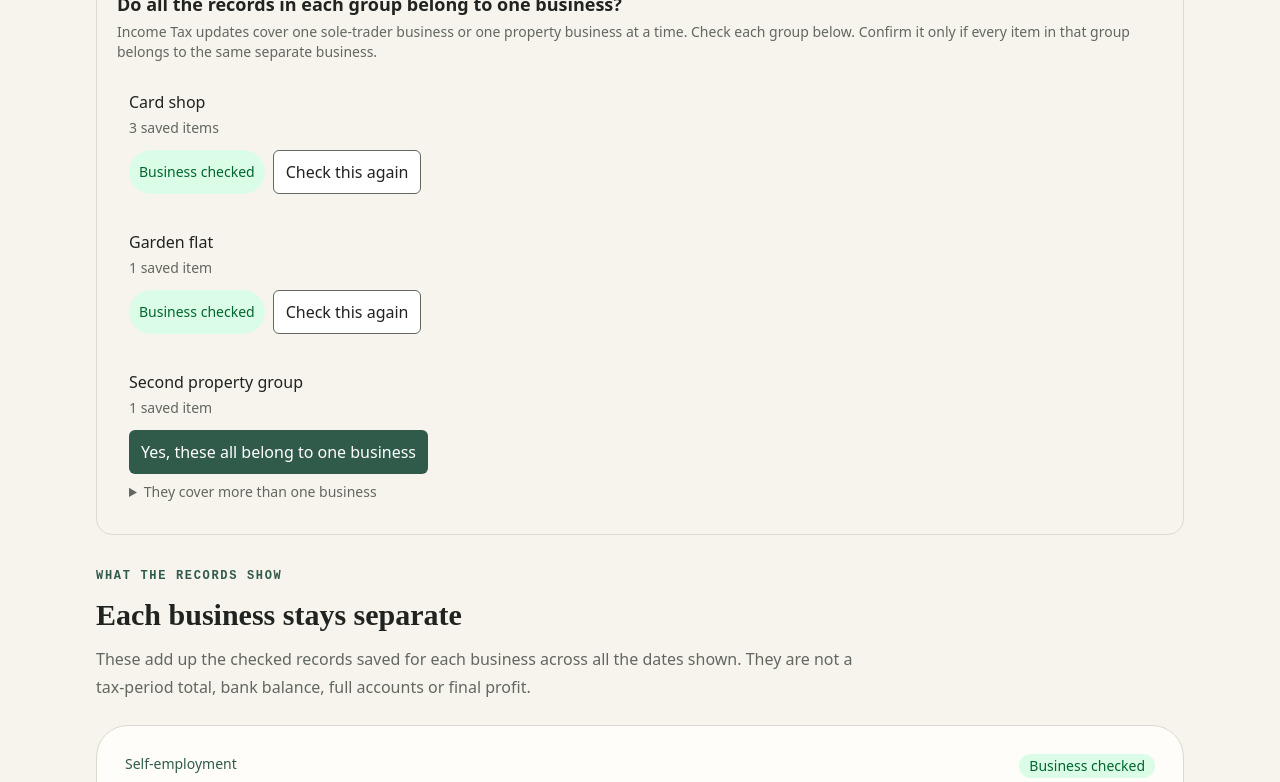
Test case: Books workspace entry › keeps a failed business check plain and leaves technical detail optional
The width and height of the screenshot is (1280, 782).
(page scrolled)
Click the button named "Yes, these all belong to one business — Second property group" at (278, 452), box 129,430 -> 428,474
(page scrolled)
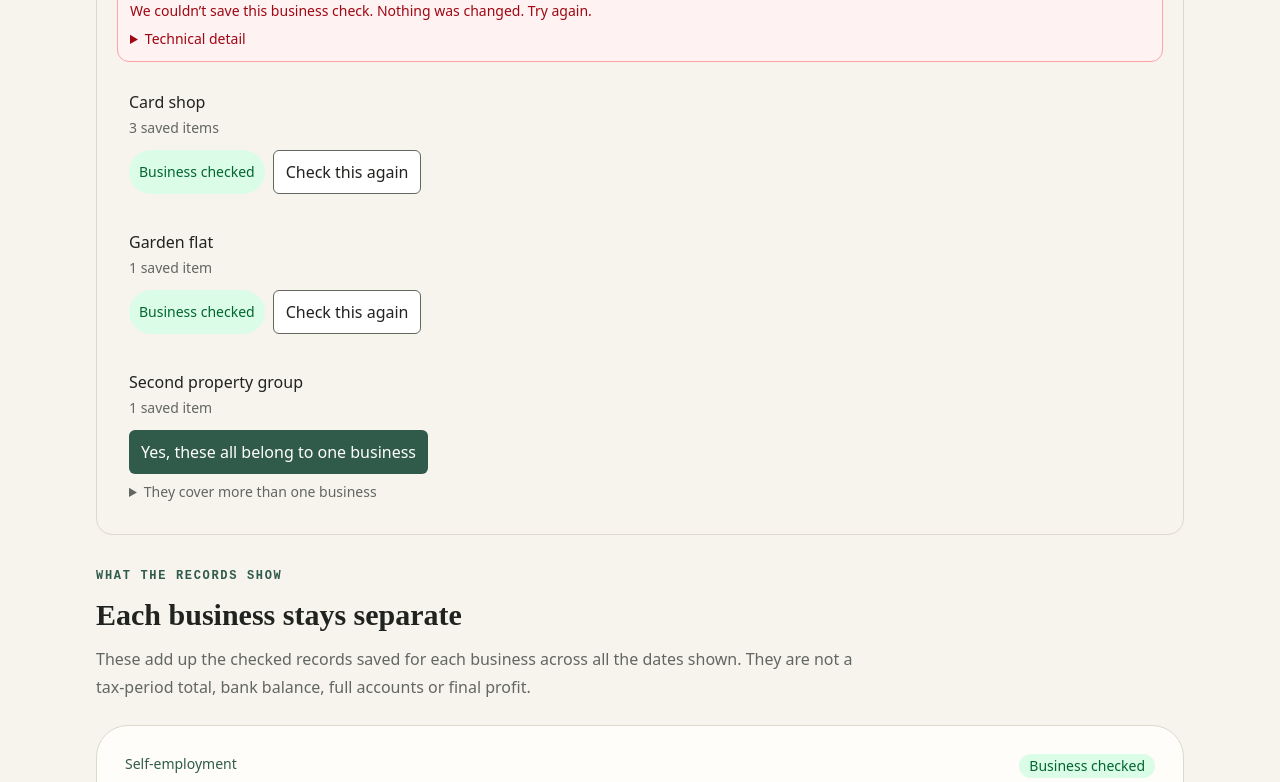
Result: the message shows "We couldn’t save this business check. Nothing was changed. Try again." at 130,1 -> 592,20
Result: the heading "Technical detail" is shown at 145,29 -> 246,48
